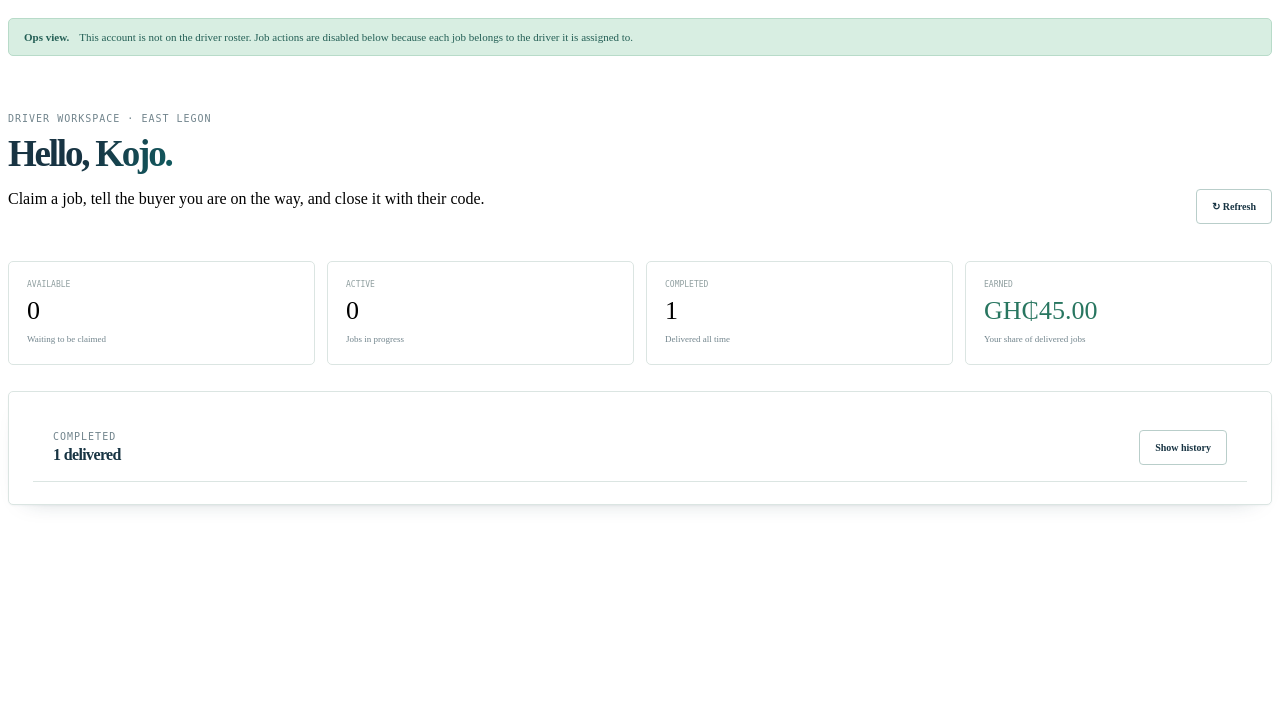
Test case: the delivery stepper › marks every step done once delivered
The width and height of the screenshot is (1280, 720).
Earlier steps of the test are not shown.
Click the button "Show history". click: (1183, 447)
box: [1139, 430, 1227, 464]
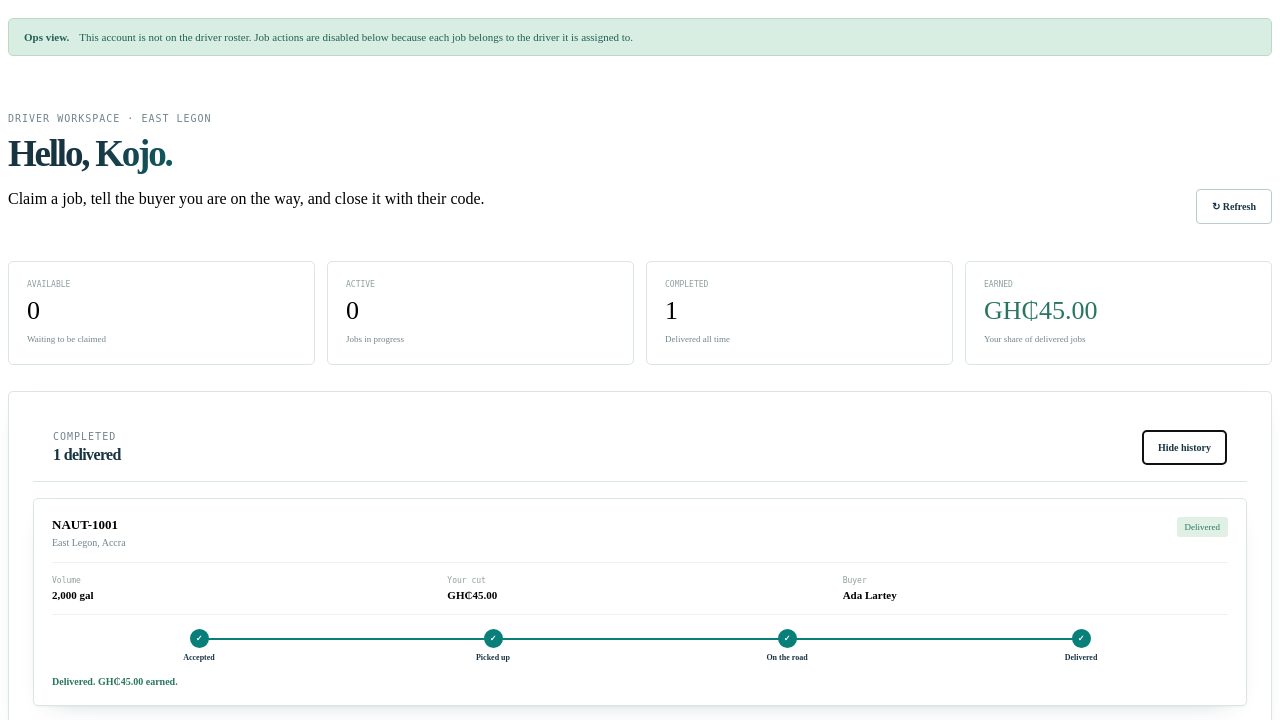
Now the list with class "driver-stepper" is shown, box [183, 628, 1097, 662]
Now the number of list items with class "done" is 4, box [183, 628, 215, 662]; [476, 628, 510, 662]; [766, 628, 808, 662]; [1065, 628, 1097, 662]
